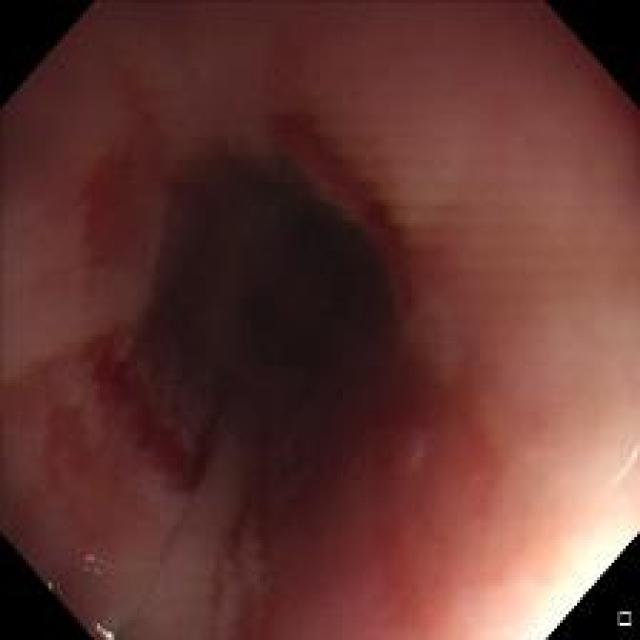color misalignment: (71, 542, 114, 578), (85, 608, 132, 638)
contrast: (114, 129, 436, 470)
saturation: (515, 530, 595, 639)
